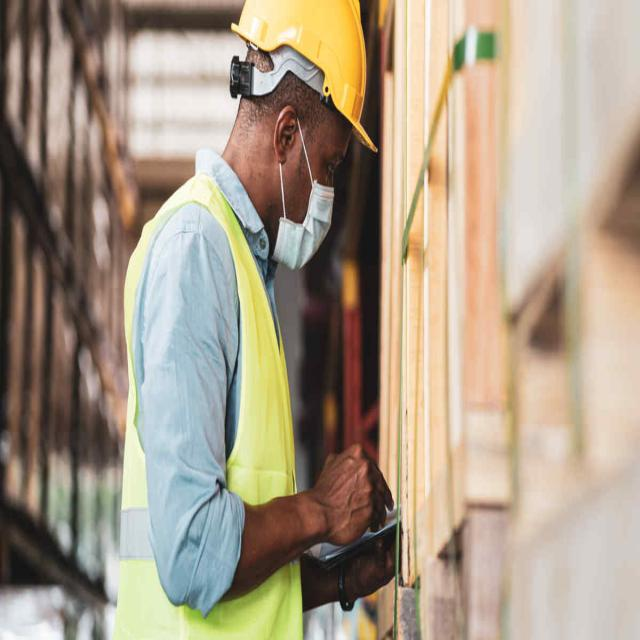helmet: (221, 0, 389, 169)
no-goggles: (285, 108, 345, 200)
vest: (108, 162, 311, 640)
